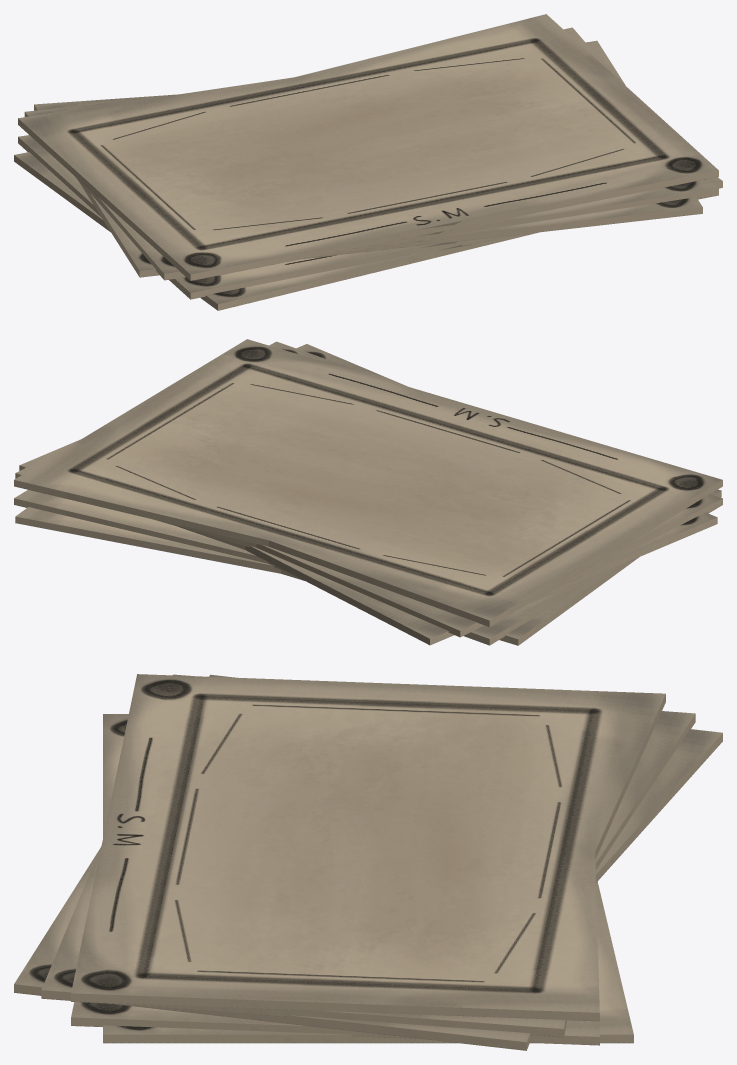
File: Deck.gltf
3 renders of one model, top to bottom at view 1: azimuth 30°, elevation 25°; view 2: azimuth 150°, elevation 25°; view 3: azimuth 270°, elevation 25°, orthographic. The views are drawn at different scales.
Visible parts, largest first — view 1: Deck; view 2: Deck; view 3: Deck.
Boxes of the visible parts, box(x1,y1,x2,y2) form: Deck: box(14, 14, 722, 310); Deck: box(14, 339, 722, 645); Deck: box(14, 674, 722, 1050).
Bounding box in the file's own units: 0.4588 × 0.023 × 0.374.
1 material, 1 textured.
